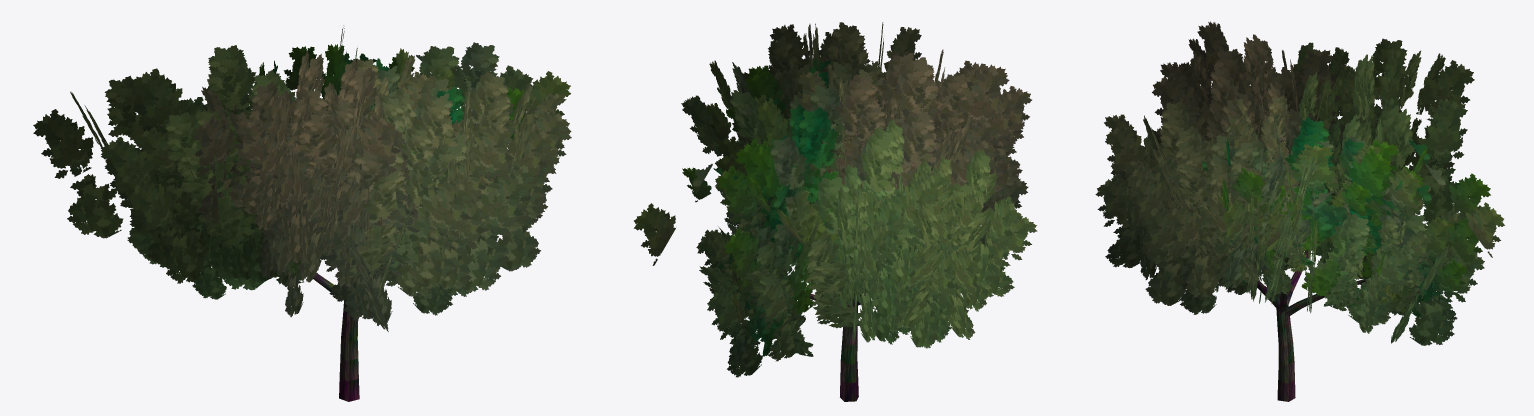
The model's file is nat_oak_c_LOD2.glb.
3 renders of one model, left to right at view 1: azimuth 30°, elevation 25°; view 2: azimuth 150°, elevation 25°; view 3: azimuth 270°, elevation 25°, orthographic. The views are drawn at different scales.
Parts seen in each view (by area): view 1: nat_oak_c_LOD2; view 2: nat_oak_c_LOD2; view 3: nat_oak_c_LOD2.
Boxes of the visible parts, left/top/right/bottom form: nat_oak_c_LOD2: left=33, top=25, right=571, bottom=401; nat_oak_c_LOD2: left=634, top=22, right=1037, bottom=401; nat_oak_c_LOD2: left=1095, top=21, right=1504, bottom=401.
Bounding box in the file's own units: 16.29 × 12.88 × 15.06.
2 materials, 2 textured.
